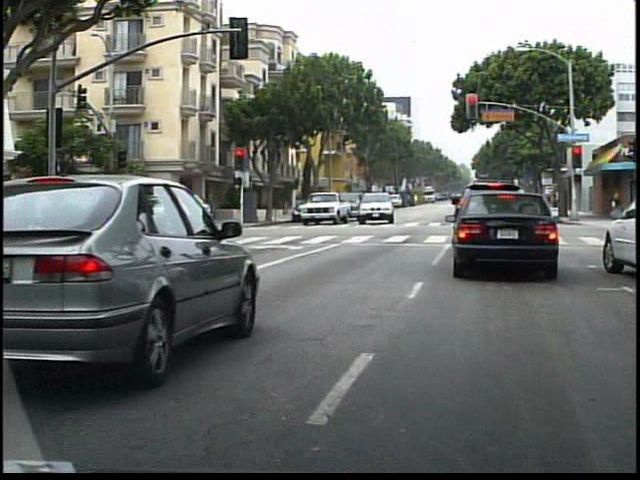person: (124, 191, 142, 235), (144, 193, 161, 233)
